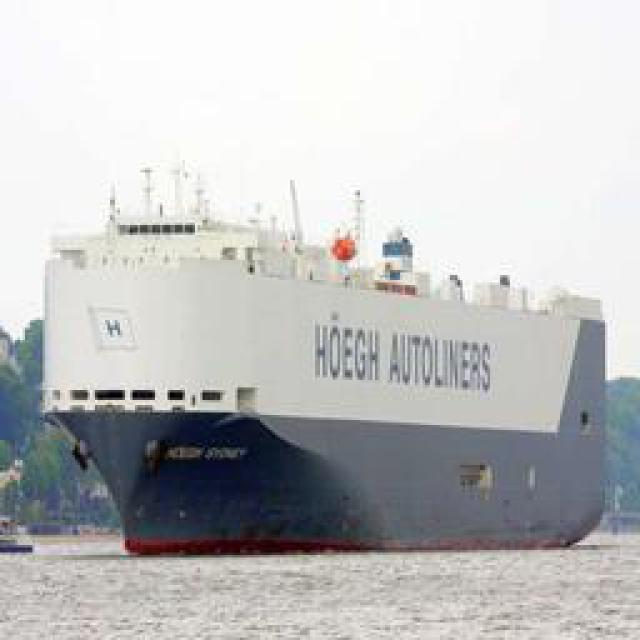Ship: (42, 229, 602, 552)
